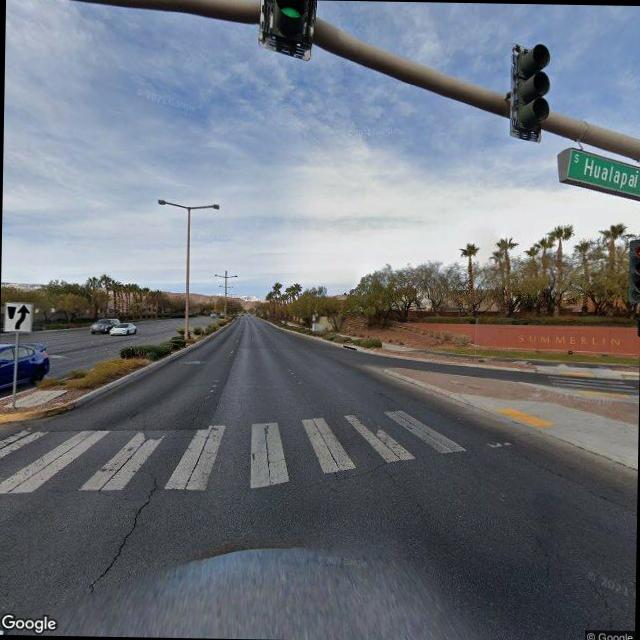pothole: (83, 472, 159, 595)
